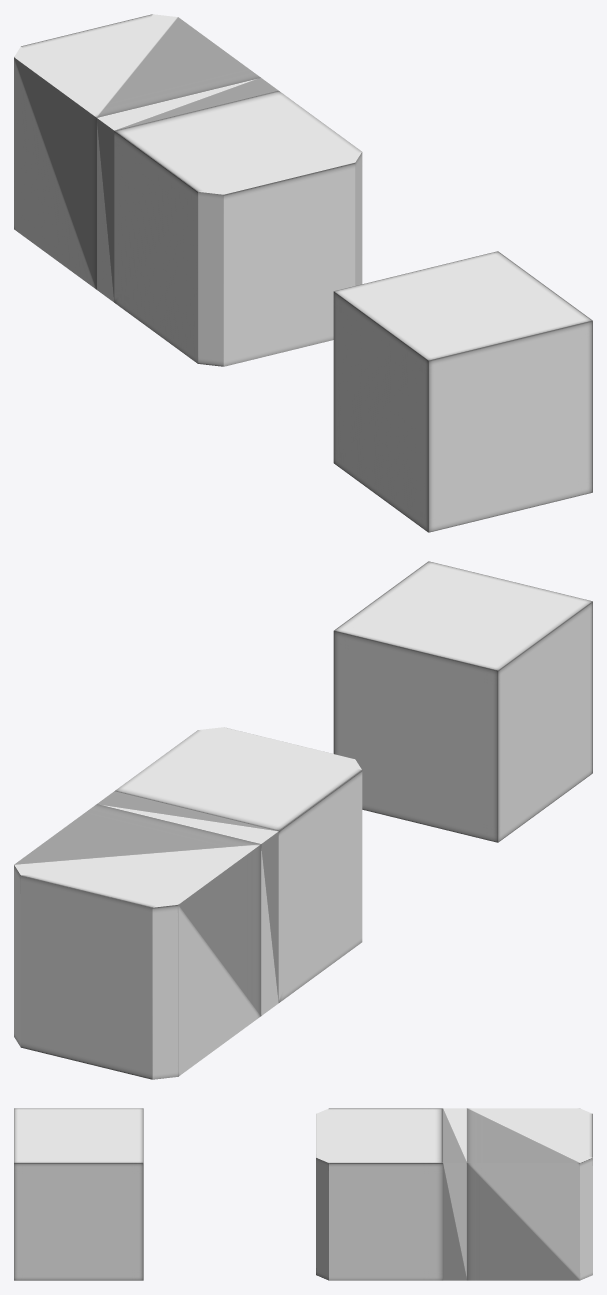
File: Stage5.obj
3 views of the same model, one above another, from view 1: azimuth 30°, elevation 25°; view 2: azimuth 150°, elevation 25°; view 3: azimuth 270°, elevation 25° (orthographic). The views are drawn at different scales.
Visible parts, largest first — view 1: pCube2, pCube1; view 2: pCube2, pCube1; view 3: pCube2, pCube1.
Boxes of the visible parts, x1=… form: pCube2: x1=14, y1=14, x2=362, y2=366; pCube1: x1=333, y1=251, x2=592, y2=532; pCube2: x1=14, y1=727, x2=362, y2=1079; pCube1: x1=333, y1=561, x2=592, y2=842; pCube2: x1=316, y1=1108, x2=592, y2=1280; pCube1: x1=14, y1=1108, x2=143, y2=1280.
Size of what is drawn, in the model's own units: 2.02 by 2.02 by 9.05.
